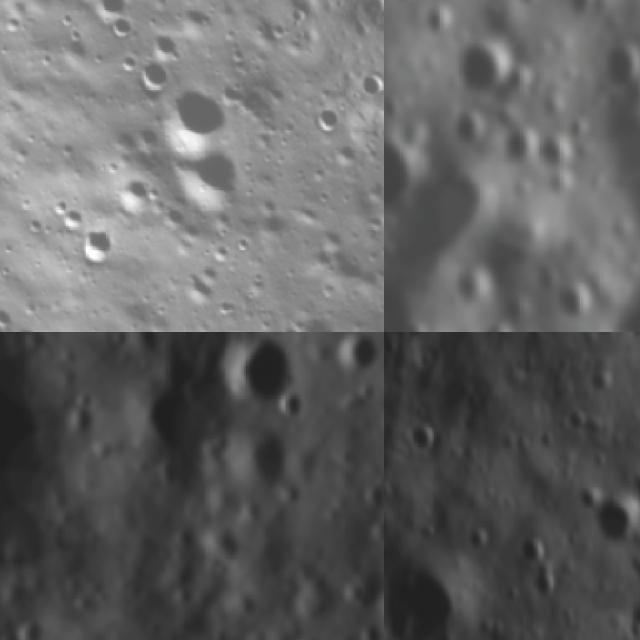crater: (0, 332, 130, 640), (384, 162, 501, 291), (114, 368, 223, 488), (157, 127, 262, 231), (138, 70, 242, 173), (214, 332, 305, 419), (224, 419, 305, 508), (103, 164, 169, 231), (450, 30, 515, 98), (67, 216, 129, 277), (384, 114, 420, 216), (137, 16, 197, 76), (320, 332, 384, 388), (597, 29, 640, 94), (275, 297, 353, 332), (45, 194, 97, 246), (78, 0, 141, 36), (302, 97, 349, 144), (449, 260, 493, 310), (500, 54, 540, 100), (594, 506, 640, 545), (417, 0, 457, 39), (556, 279, 592, 320), (537, 128, 573, 168), (541, 162, 576, 200), (384, 87, 414, 125), (561, 111, 596, 140), (350, 613, 384, 640), (525, 535, 550, 571), (540, 573, 567, 604), (404, 426, 434, 452), (506, 171, 533, 199), (562, 0, 596, 18), (576, 406, 596, 434), (473, 321, 517, 332), (386, 0, 424, 10), (399, 318, 425, 332)
